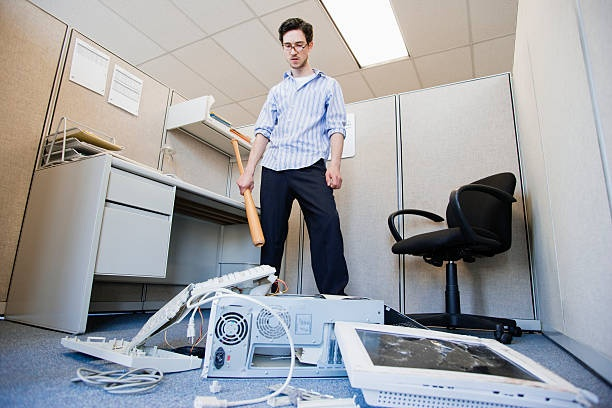bita: (231, 136, 265, 247)
